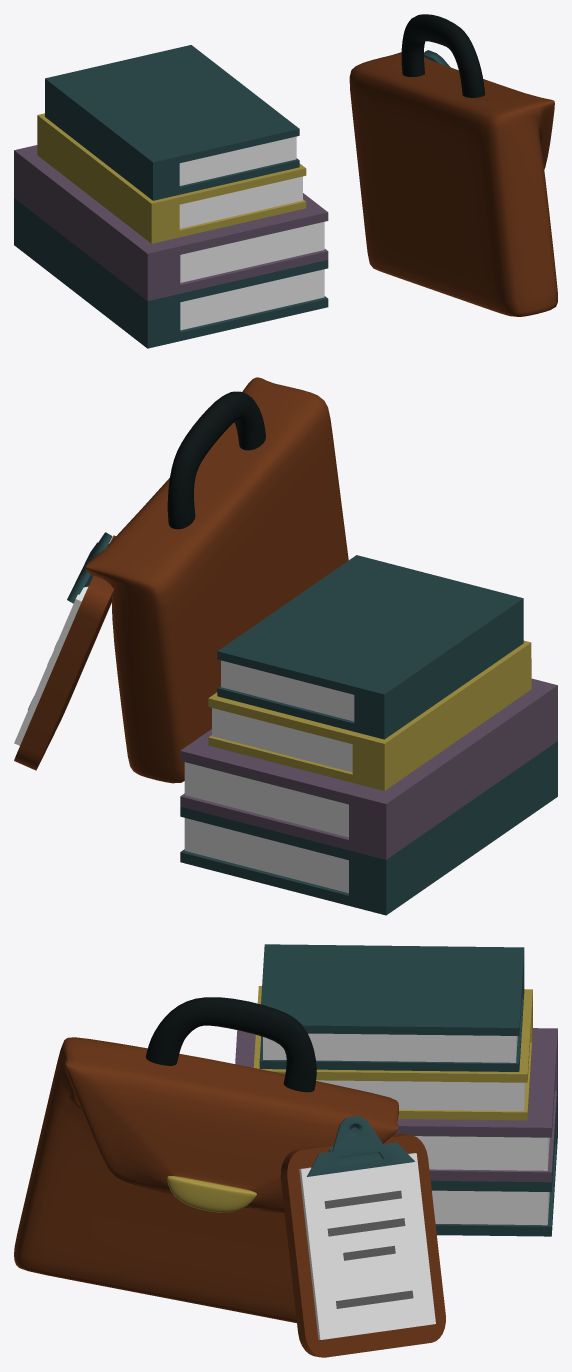
Rendered from Balançatrabalho.fbx.
3 views of the same model, one above another, from view 1: azimuth 30°, elevation 25°; view 2: azimuth 150°, elevation 25°; view 3: azimuth 270°, elevation 25° (orthographic). The views are drawn at different scales.
Parts seen in each view (by area): view 1: Cube.144, Cube.142, Cube.139, Cube.141, Cube.140; view 2: Cube.144, Cube.142, Cube.139, Cube.141, Cube.140, Cube.143; view 3: Cube.144, Cube.143, Cube.142, Cube.139, Cube.140, Cube.141.
Boxes of the visible parts, box(x1,y1,x2,y2) form: Cube.144: box(349, 14, 557, 316); Cube.142: box(45, 45, 299, 200); Cube.139: box(14, 145, 328, 301); Cube.141: box(14, 198, 328, 348); Cube.140: box(37, 113, 306, 243); Cube.144: box(85, 377, 348, 783); Cube.142: box(217, 555, 523, 739); Cube.139: box(180, 678, 557, 859); Cube.141: box(180, 741, 557, 915); Cube.140: box(208, 640, 531, 790); Cube.143: box(14, 532, 115, 770); Cube.144: box(14, 997, 398, 1322); Cube.143: box(280, 1116, 445, 1357); Cube.142: box(259, 944, 524, 1071); Cube.139: box(235, 1028, 557, 1182); Cube.140: box(253, 986, 532, 1120); Cube.141: box(430, 1084, 557, 1236).
Size of the model in its own units: 462 by 307 by 468.
